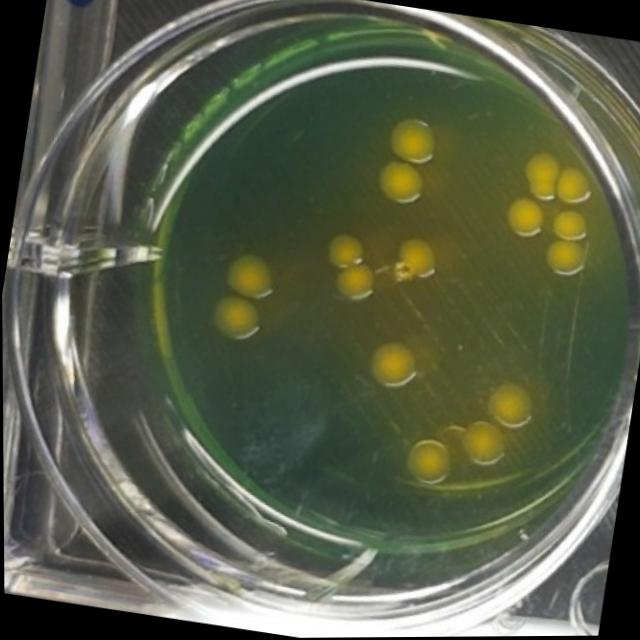vibrio: (361, 334, 425, 396), (398, 433, 461, 492), (203, 292, 264, 350), (387, 231, 443, 288), (372, 156, 429, 212), (223, 251, 281, 306), (485, 377, 540, 435), (385, 111, 441, 167), (455, 418, 512, 473), (330, 258, 380, 309), (521, 148, 565, 203), (501, 192, 548, 241), (541, 235, 590, 281), (327, 230, 370, 276), (553, 166, 596, 208), (548, 207, 591, 246)
